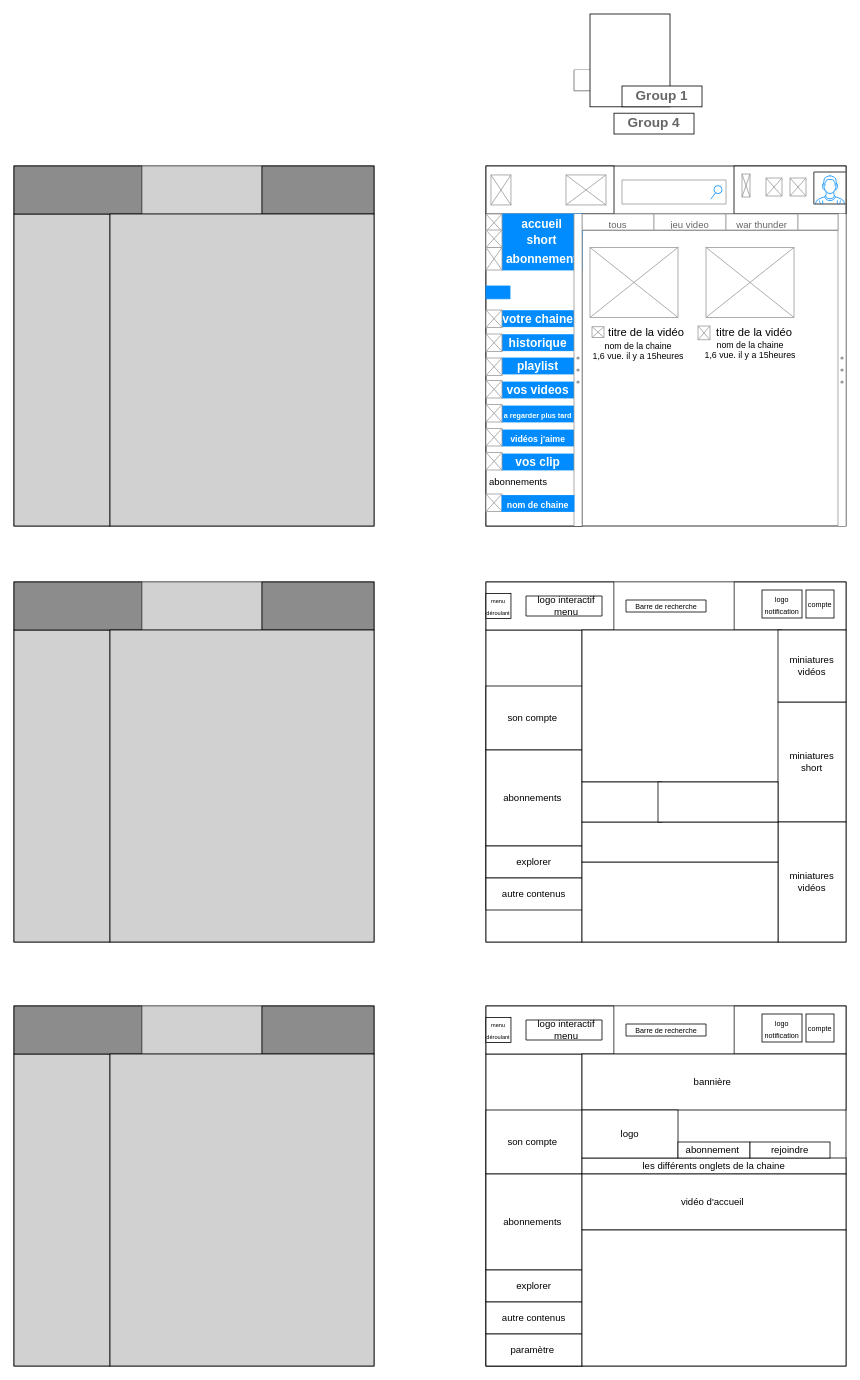
The diagram is 860 pixels wide and 1380 high, and some of its shapes have lost their labels. The centre of each missing label's shape, as x and y in pixels:
"actualité" belongs at [817,221].
"bouton : j'aime, partager" belongs at [717,801].
"bouton vers la chaine" belongs at [621,801].
"description de la vidéo" belongs at [679,841].
"différentes vidéo par playlists/catégories" belongs at [713,1297].
"espace commentaires" belongs at [679,901].
"Search" belongs at [673,191].
"vidéo YouTube" belongs at [681,705].
"vous" belongs at [497,292].
